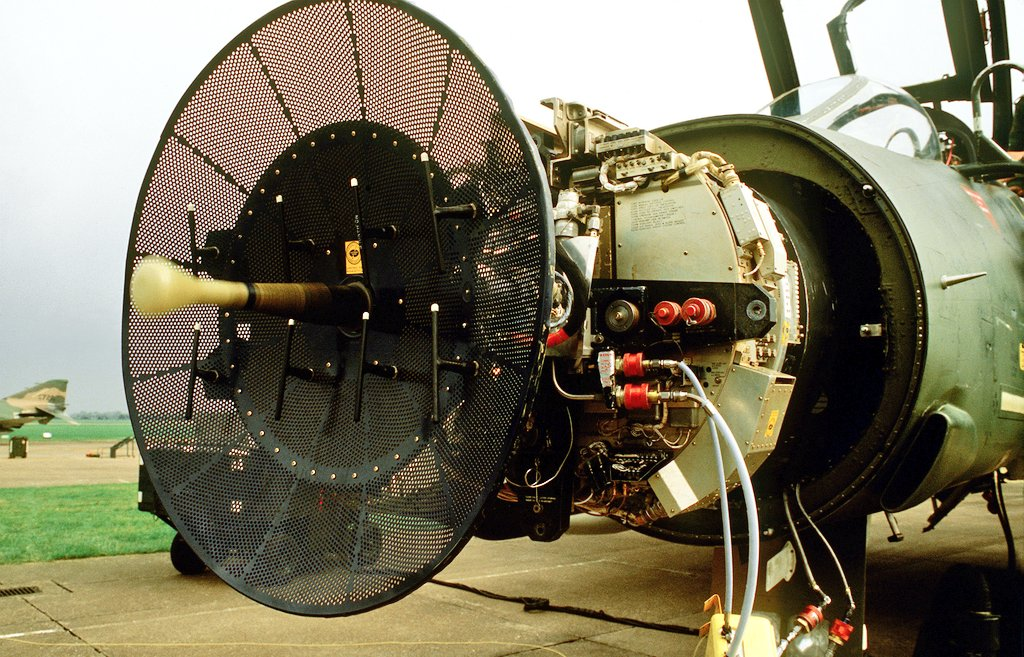F4: (120, 1, 1024, 657), (1, 379, 83, 436)
